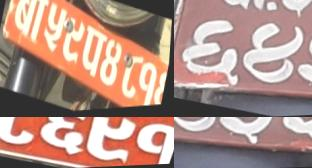0: (211, 0, 278, 16)
1: (128, 117, 174, 167), (134, 59, 161, 109), (277, 117, 312, 148), (276, 0, 312, 20)
4: (176, 11, 256, 84), (100, 34, 128, 91)
5: (238, 16, 312, 90), (41, 0, 70, 59), (174, 117, 234, 140)
6: (33, 117, 98, 161), (216, 117, 289, 147), (292, 21, 312, 99), (152, 68, 170, 108)
8: (0, 117, 48, 150), (120, 51, 146, 107)
9: (79, 117, 145, 168), (60, 13, 88, 69)
ba: (10, 0, 51, 50)
pa: (77, 22, 110, 88)
